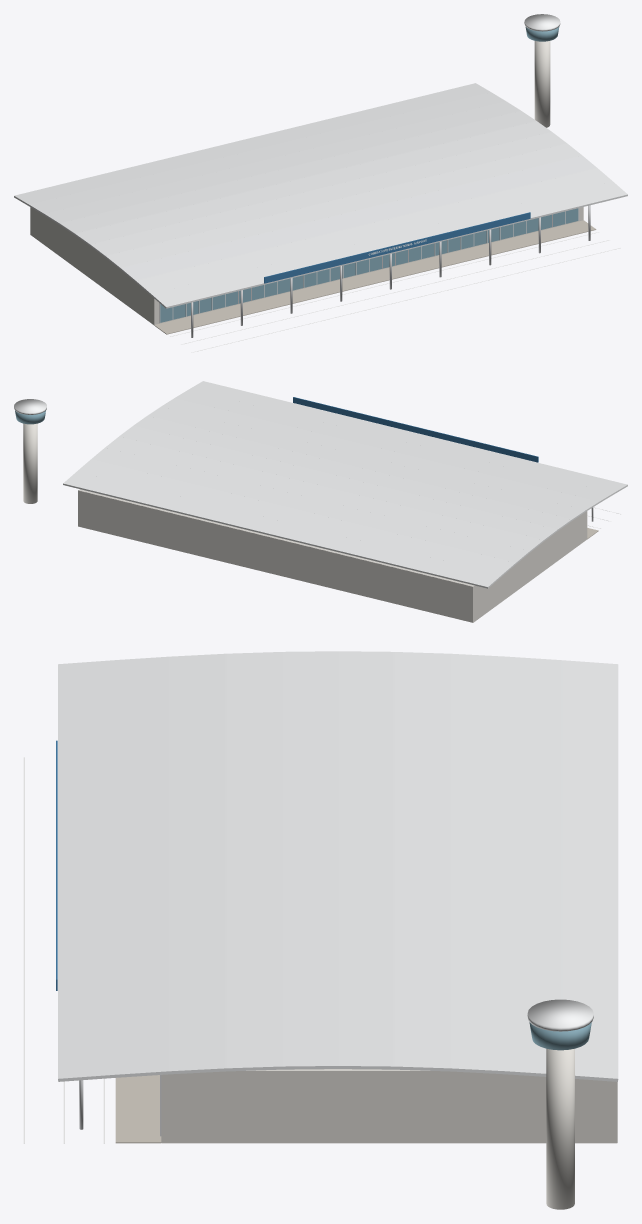
The model's file is airport_ao.glb.
3 renders of one model, top to bottom at view 1: azimuth 30°, elevation 25°; view 2: azimuth 150°, elevation 25°; view 3: azimuth 270°, elevation 25°, orthographic. The views are drawn at different scales.
Parts seen in each view (by area): view 1: airport; view 2: airport; view 3: airport.
Part boxes in pixels (x1=…): airport: x1=14, y1=14, x2=627, y2=352; airport: x1=14, y1=381, x2=627, y2=622; airport: x1=23, y1=651, x2=618, y2=1209.
Bounding box in the file's own units: 197 × 36.8 × 104.
